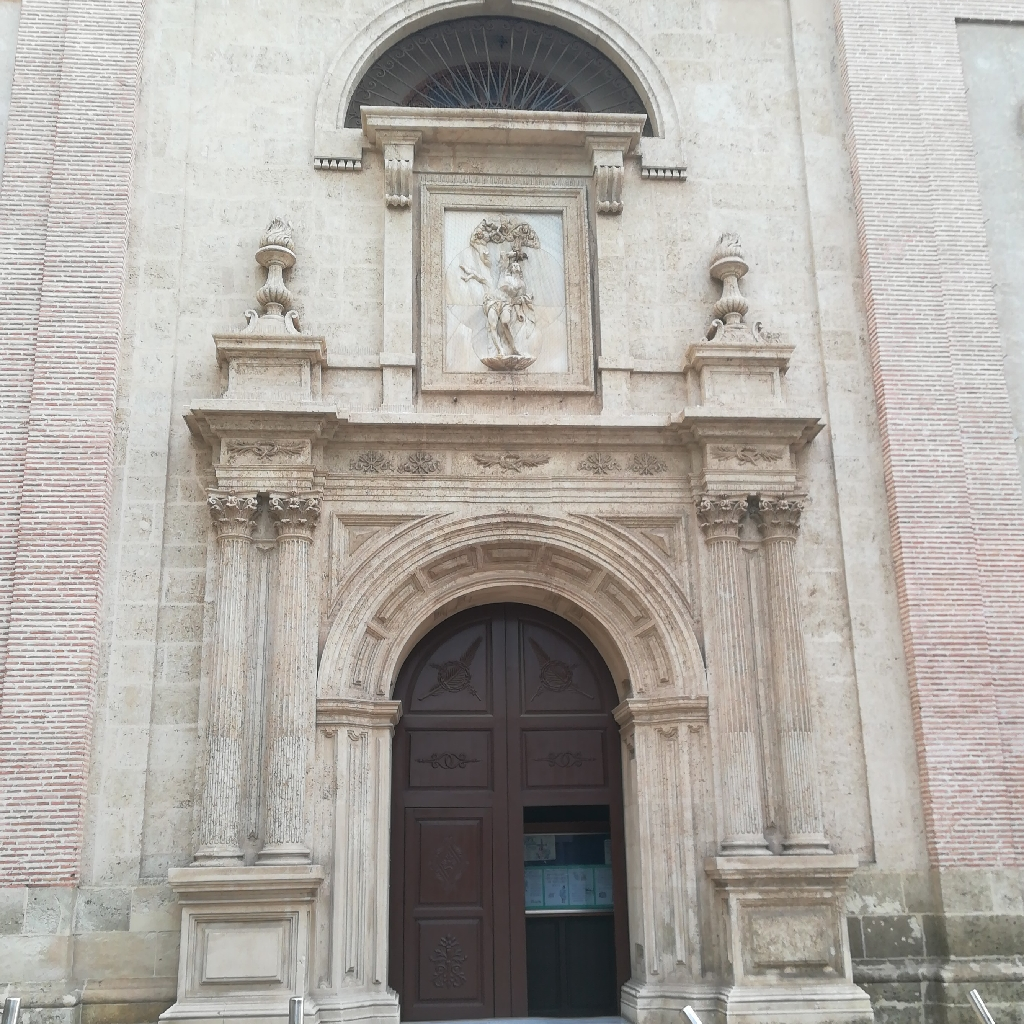arco-medio-punto: (383, 574, 636, 746)
